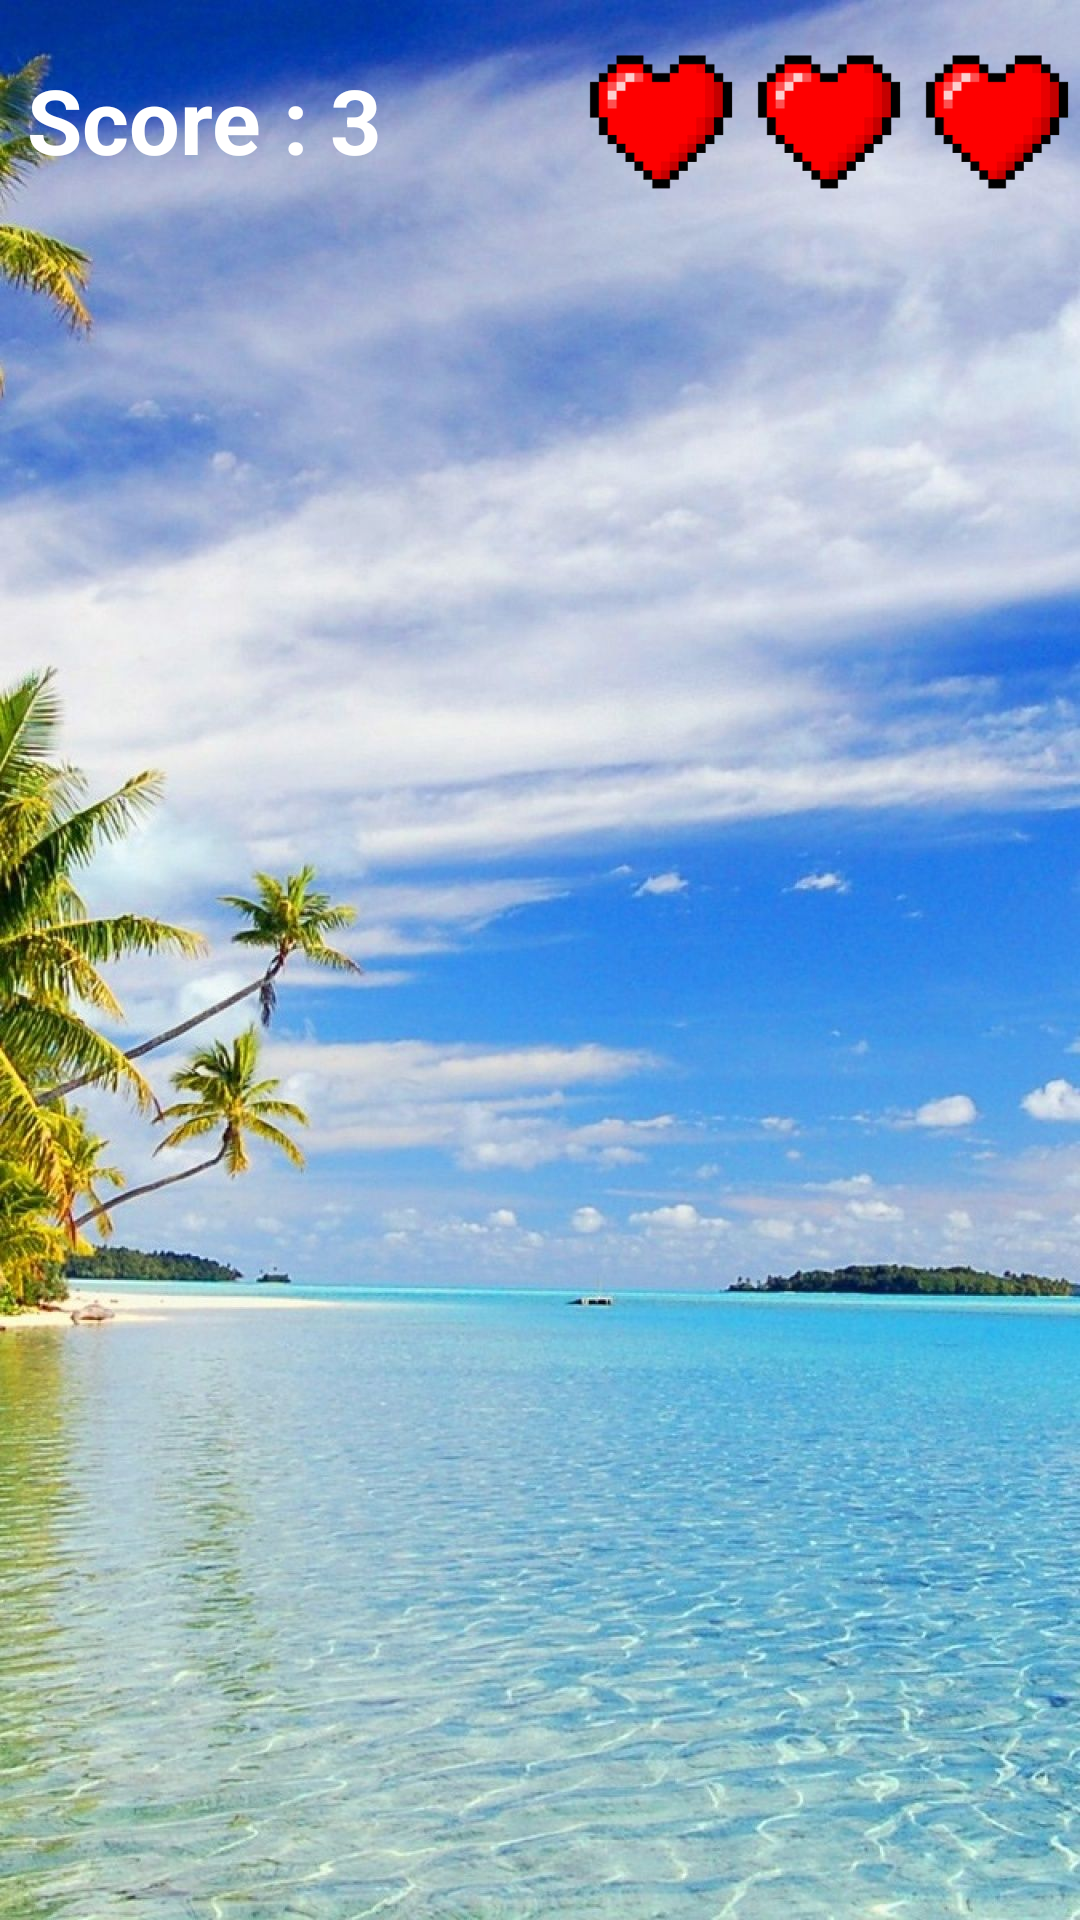

Icons on this 1080w x 1920h Android screen, each with the point to tap as (x,y):
coeur rouge: (660,120), (828,120), (996,125)
